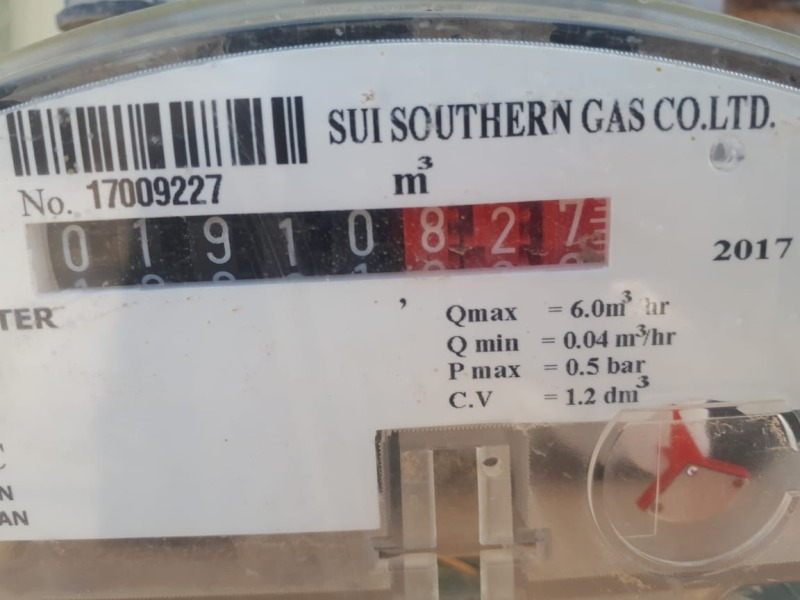ssgc: (21, 196, 614, 288)
